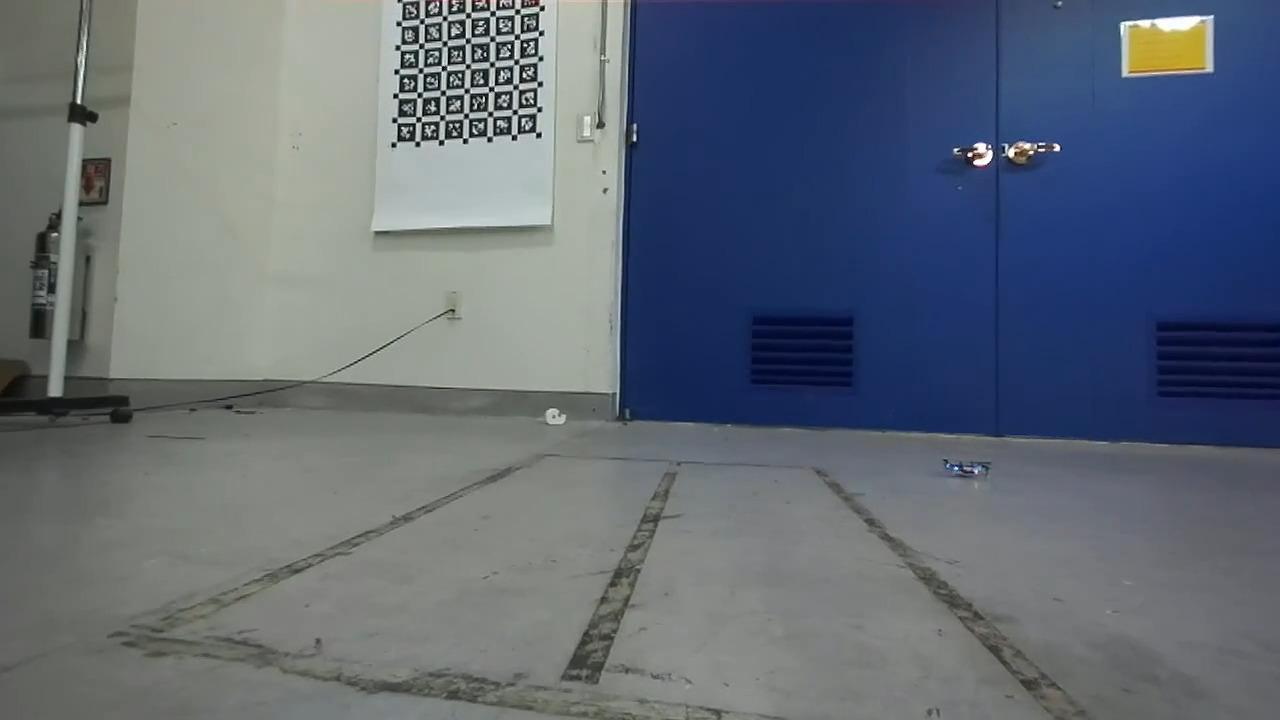crazyflie: (940, 449, 987, 479)
